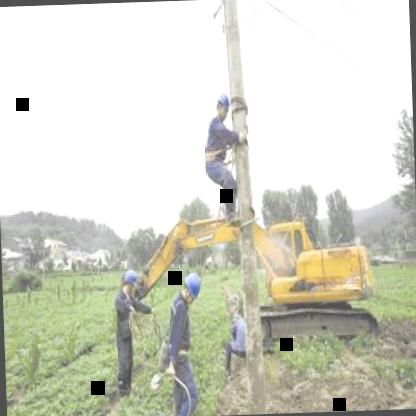helmet: (180, 270, 204, 306), (215, 87, 233, 125), (123, 265, 140, 297)
